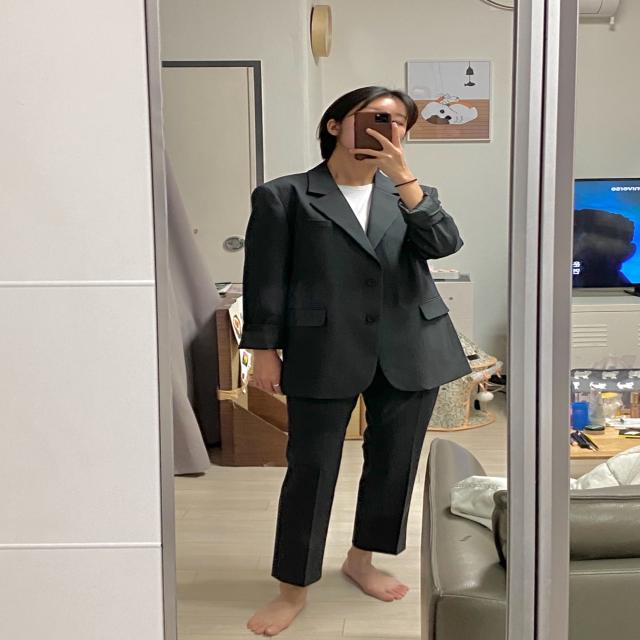blazer: (238, 165, 475, 393)
slacks: (274, 327, 443, 587)
